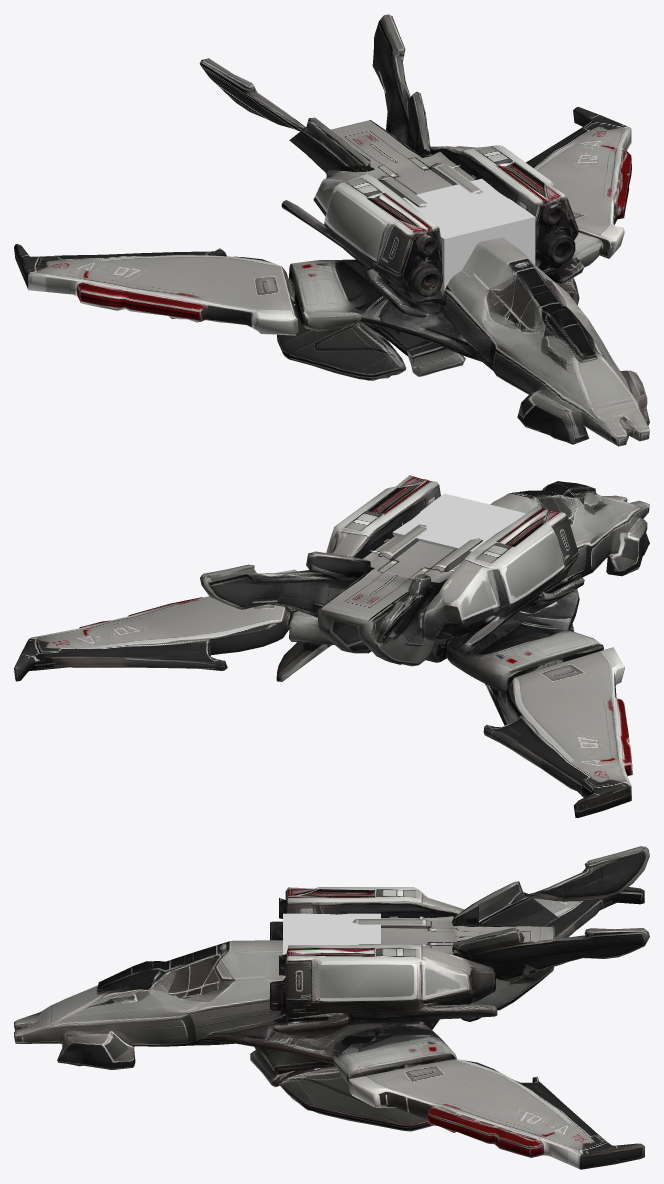
Rendered from SM_Ship_Fighter_01.glb.
3 renders of one model, top to bottom at view 1: azimuth 30°, elevation 25°; view 2: azimuth 150°, elevation 25°; view 3: azimuth 270°, elevation 25°, orthographic. The views are drawn at different scales.
Visible parts, largest first — view 1: Mesh_0, Cube; view 2: Mesh_0, Cube; view 3: Mesh_0, Cube.
Boxes of the visible parts, x1,y1,x2,y2 form: Mesh_0: [14, 14, 649, 446]; Cube: [403, 178, 535, 291]; Mesh_0: [14, 475, 649, 817]; Cube: [392, 493, 526, 552]; Mesh_0: [14, 846, 649, 1169]; Cube: [283, 913, 380, 1023].
Size of the model in its own units: 13.25 by 4.1 by 12.98.
Materials: 2 (1 with a texture image).
